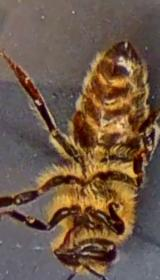varroa_mite: (72, 106, 84, 134)
